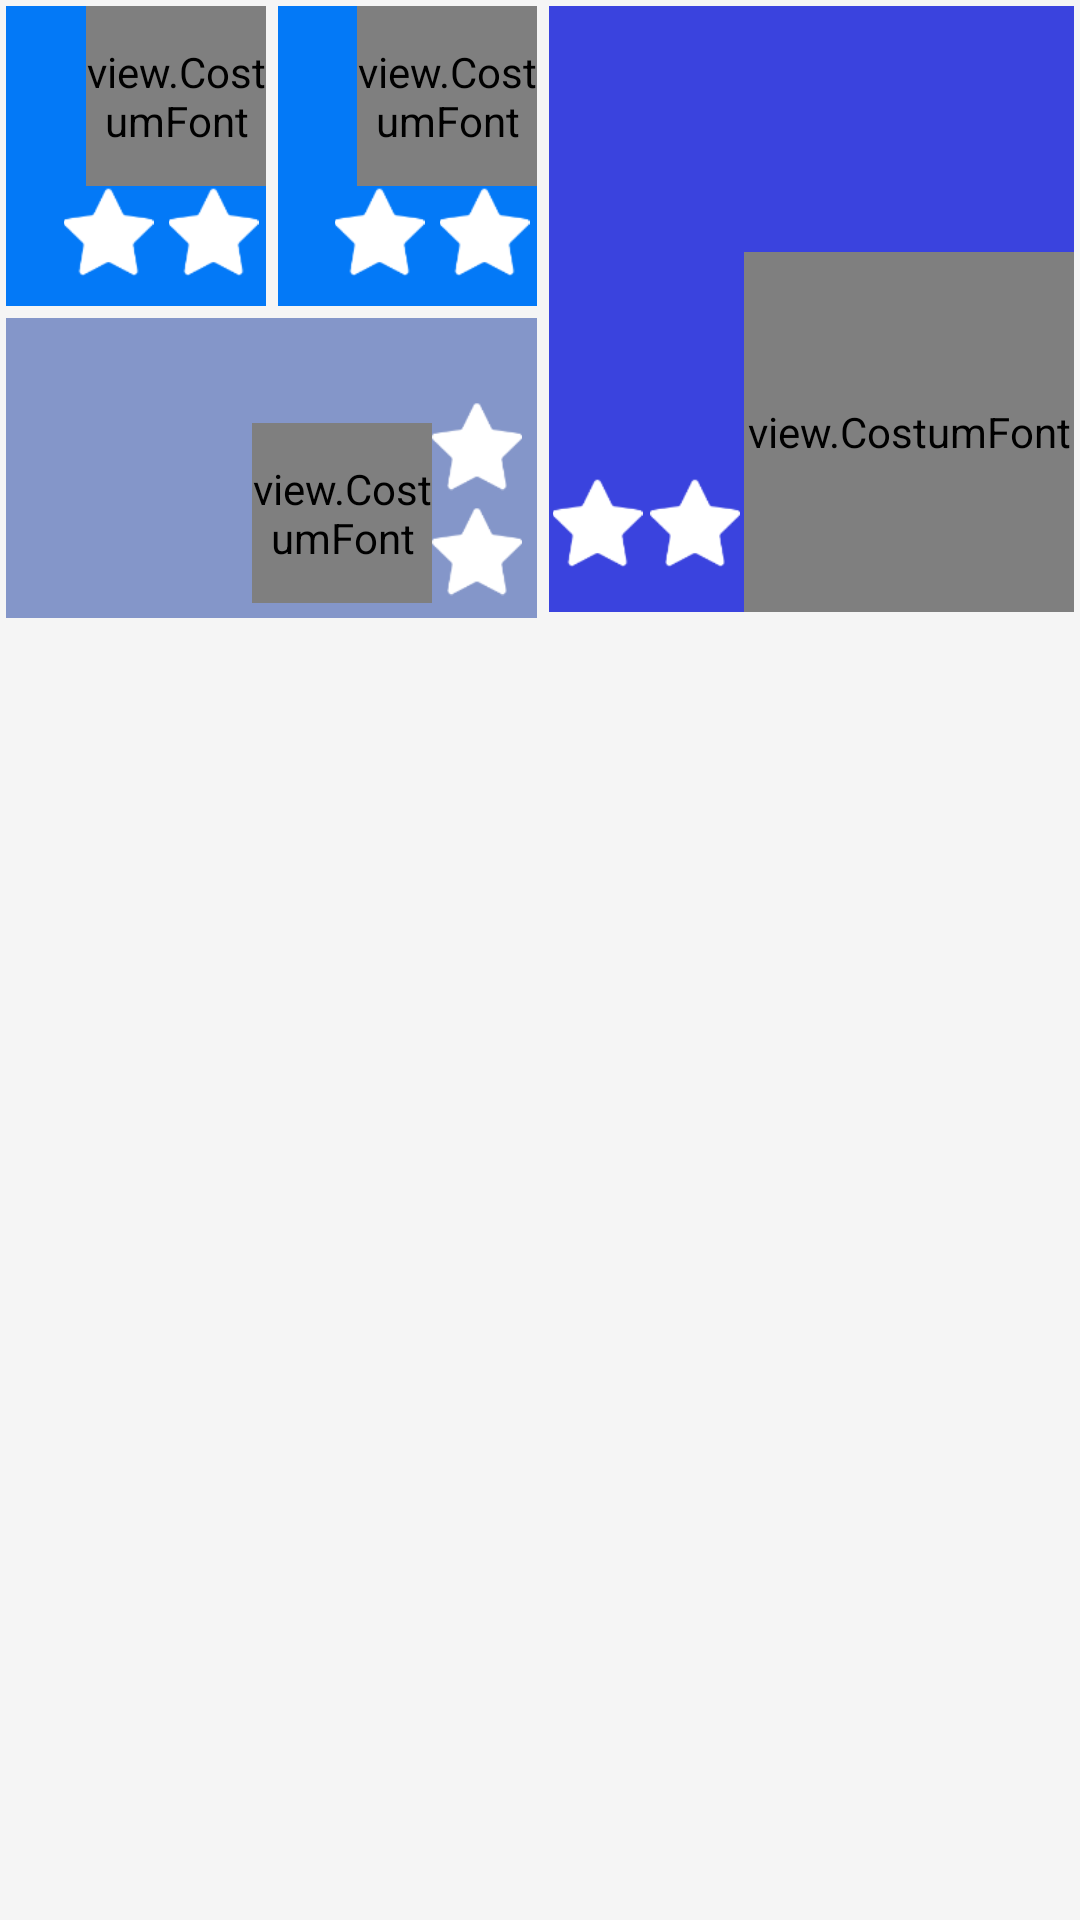

Screen size 1080px×1920px. Icon name, then its box in pixels as box(x1, y1, x2, y2):
bintang: box(64, 188, 154, 276), box(169, 188, 259, 276), box(335, 188, 425, 276), box(440, 188, 530, 276), box(432, 403, 522, 490), box(553, 479, 643, 567), box(650, 479, 740, 567), box(432, 508, 522, 595)
